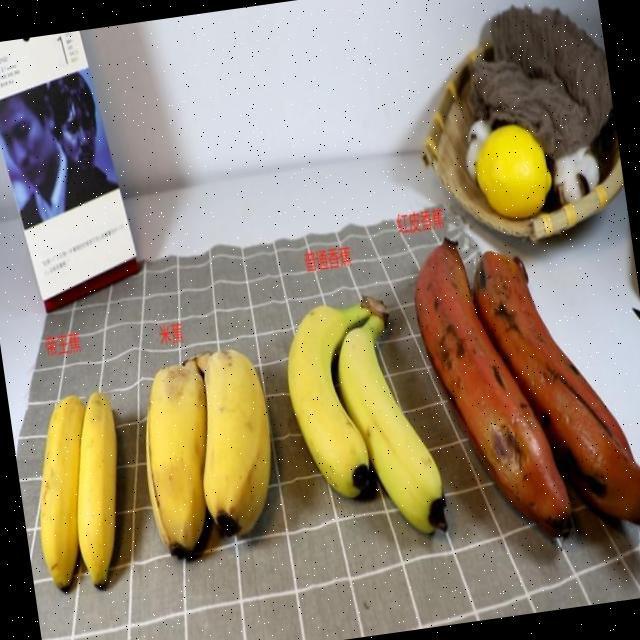banana-peel: (327, 292, 451, 546), (276, 295, 397, 508), (183, 342, 285, 542), (130, 357, 228, 564), (20, 392, 109, 594), (57, 388, 137, 590)
